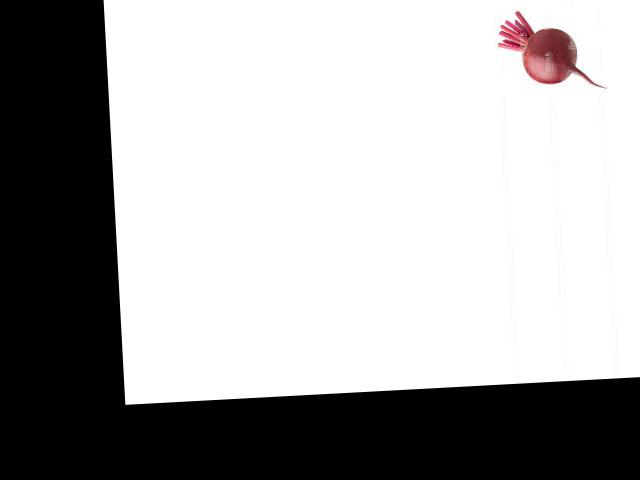beet: (496, 6, 605, 94)
